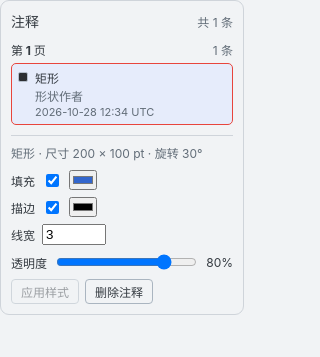
Test: AnnotationPanel › refuses a shape style with neither fill nor stroke
Click the checkbox named "形状填充": (52, 180) [46,174,59,186]
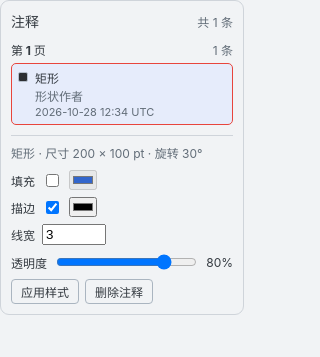
Click the checkbox named "形状描边": (52, 207) [46,200,59,214]
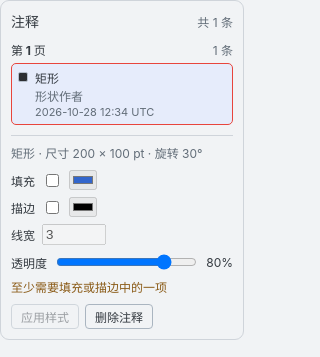
Check: the button "应用样式" is disabled, box [11,304,79,329]
Check: the text "至少需要填充或描边中的一项" is shown, box [11,280,167,295]
